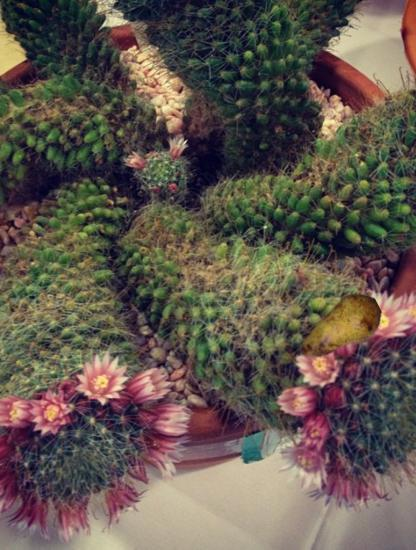Pear: (294, 282, 385, 373)
